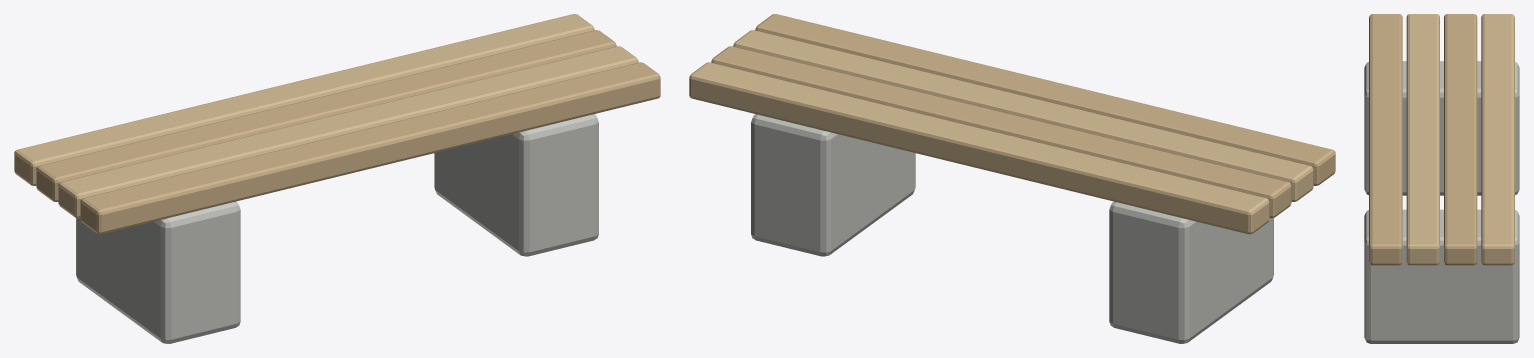
Rendered from bench_modern_concrete_wood.glb.
3 views of the same model, side by side, from view 1: azimuth 30°, elevation 25°; view 2: azimuth 150°, elevation 25°; view 3: azimuth 270°, elevation 25° (orthographic). The views are drawn at different scales.
Parts seen in each view (by area): view 1: Modern bench long timber seat, Solid concrete bench pedestal, Solid concrete bench pedestal.001, Modern bench long timber seat.001, Modern bench long timber seat.003, Modern bench long timber seat.002; view 2: Modern bench long timber seat.003, Solid concrete bench pedestal, Solid concrete bench pedestal.001, Modern bench long timber seat.002, Modern bench long timber seat, Modern bench long timber seat.001; view 3: Solid concrete bench pedestal.001, Modern bench long timber seat, Modern bench long timber seat.003, Modern bench long timber seat.001, Modern bench long timber seat.002, Solid concrete bench pedestal.
Part boxes in pixels (x1,y1,x2,y2): Modern bench long timber seat: (80,62,660,234); Solid concrete bench pedestal: (76,201,240,343); Solid concrete bench pedestal.001: (434,114,598,256); Modern bench long timber seat.001: (58,46,638,218); Modern bench long timber seat.003: (14,14,594,185); Modern bench long timber seat.002: (36,30,616,201); Modern bench long timber seat.003: (689,62,1269,234); Solid concrete bench pedestal: (1109,201,1273,343); Solid concrete bench pedestal.001: (751,114,915,256); Modern bench long timber seat.002: (711,46,1291,218); Modern bench long timber seat: (755,14,1335,185); Modern bench long timber seat.001: (733,30,1313,201); Solid concrete bench pedestal.001: (1364,209,1519,343); Modern bench long timber seat: (1369,14,1402,265); Modern bench long timber seat.003: (1481,14,1514,265); Modern bench long timber seat.001: (1406,14,1439,265); Modern bench long timber seat.002: (1444,14,1477,265); Solid concrete bench pedestal: (1364,61,1519,195).
Size of the model in its own units: 1.92 by 0.487 by 0.54.
